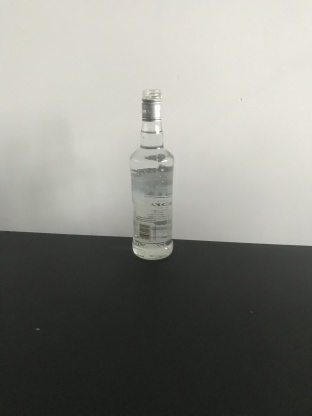nakretka: (140, 86, 163, 123)
